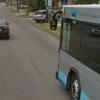Bus: (50, 2, 100, 100)
